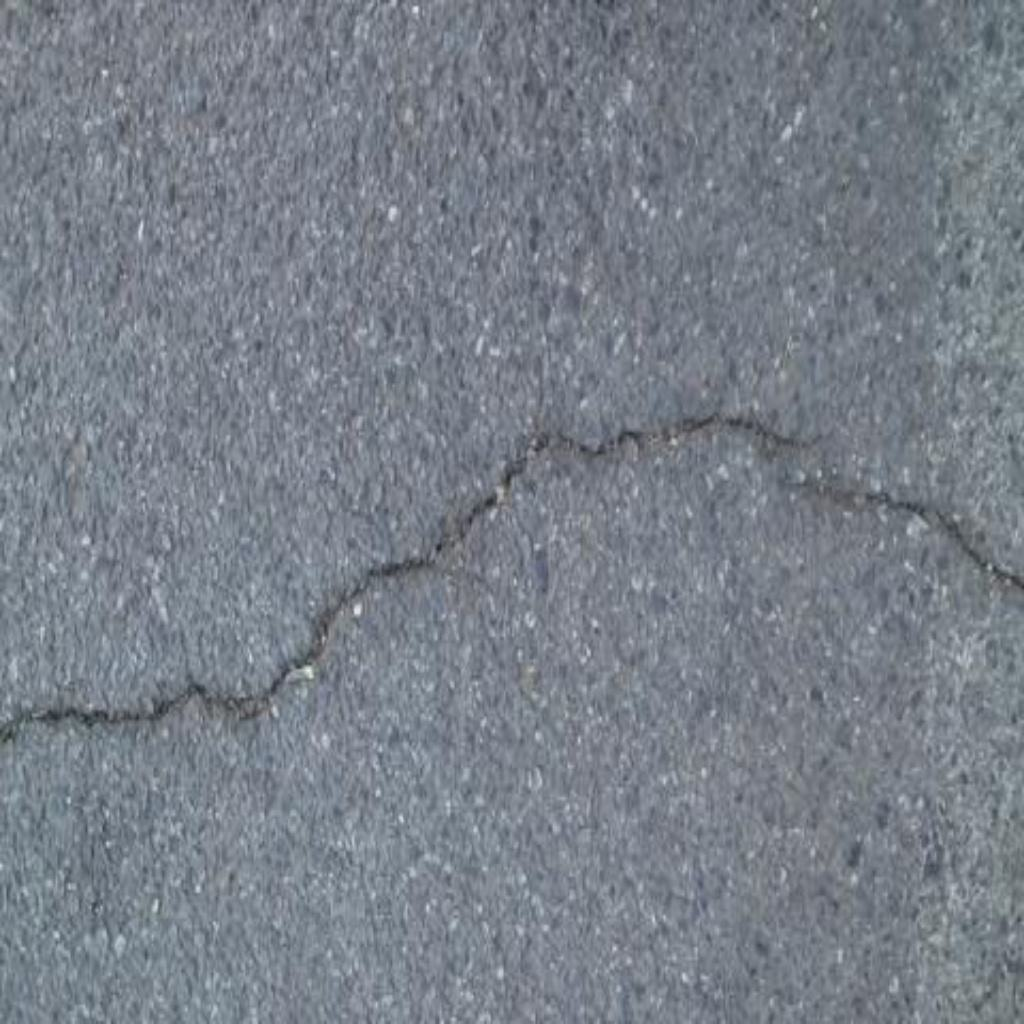Crack: (1, 415, 807, 743), (780, 475, 1024, 591)
